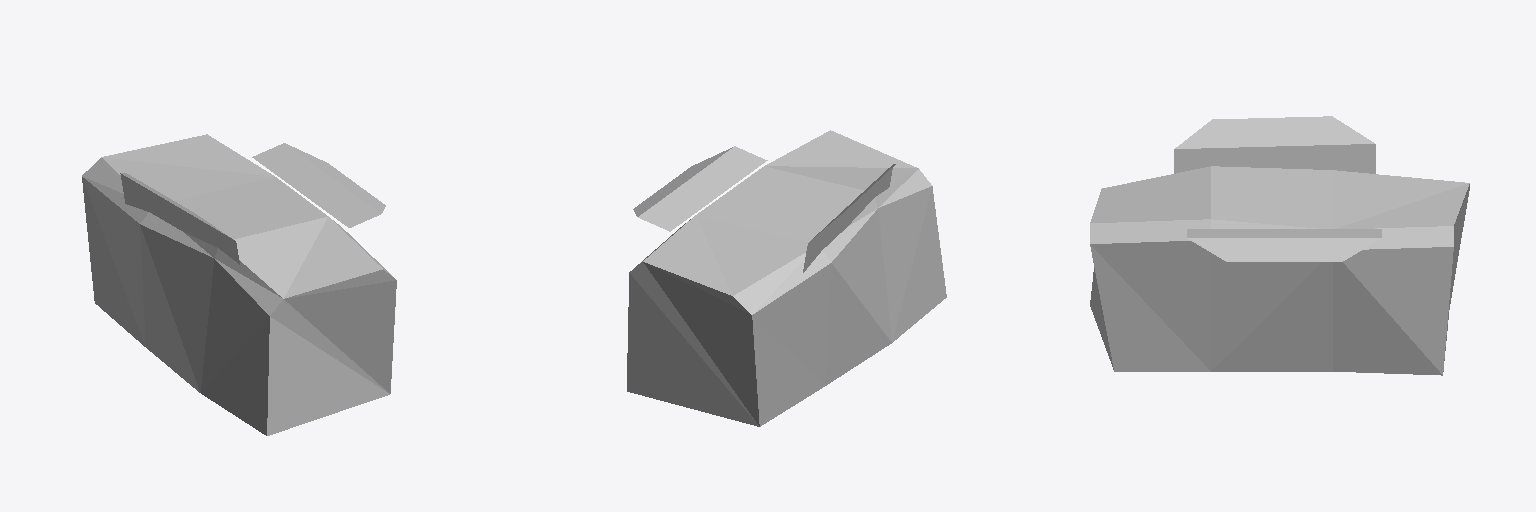
Rendered from BeigeBag.obj.
The picture shows the model from 3 angles: view 1: azimuth 30°, elevation 25°; view 2: azimuth 150°, elevation 25°; view 3: azimuth 270°, elevation 25°; orthographic projection.
Parts seen in each view (by area): view 1: BeigeBag, BeigeBag BeigeBagHangle02, BeigeBag BeigeBagHangle01; view 2: BeigeBag, BeigeBag BeigeBagHangle02, BeigeBag BeigeBagHangle01; view 3: BeigeBag, BeigeBag BeigeBagHangle01, BeigeBag BeigeBagHangle02.
Boxes of the visible parts, x1,y1,x2,y2 form: BeigeBag: [82, 134, 396, 435]; BeigeBag BeigeBagHangle02: [252, 143, 385, 227]; BeigeBag BeigeBagHangle01: [120, 173, 239, 264]; BeigeBag: [627, 130, 946, 426]; BeigeBag BeigeBagHangle02: [633, 146, 767, 231]; BeigeBag BeigeBagHangle01: [803, 164, 895, 272]; BeigeBag: [1090, 166, 1469, 375]; BeigeBag BeigeBagHangle01: [1174, 116, 1375, 173]; BeigeBag BeigeBagHangle02: [1187, 229, 1381, 261].
Bounding box in the file's own units: 1.53 × 1.27 × 2.42.